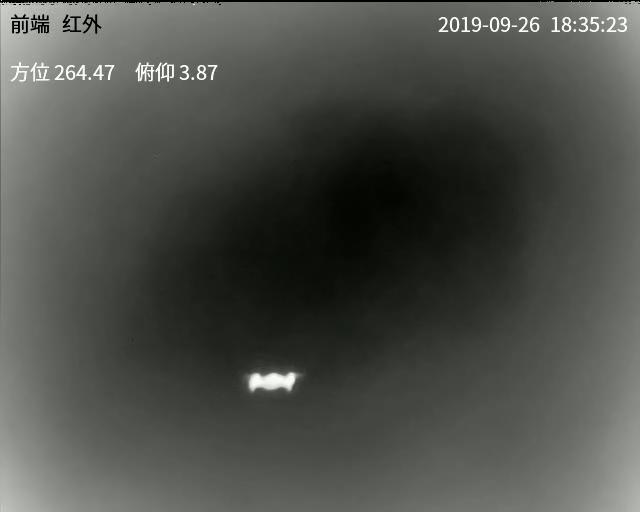uav: (245, 364, 305, 398)
